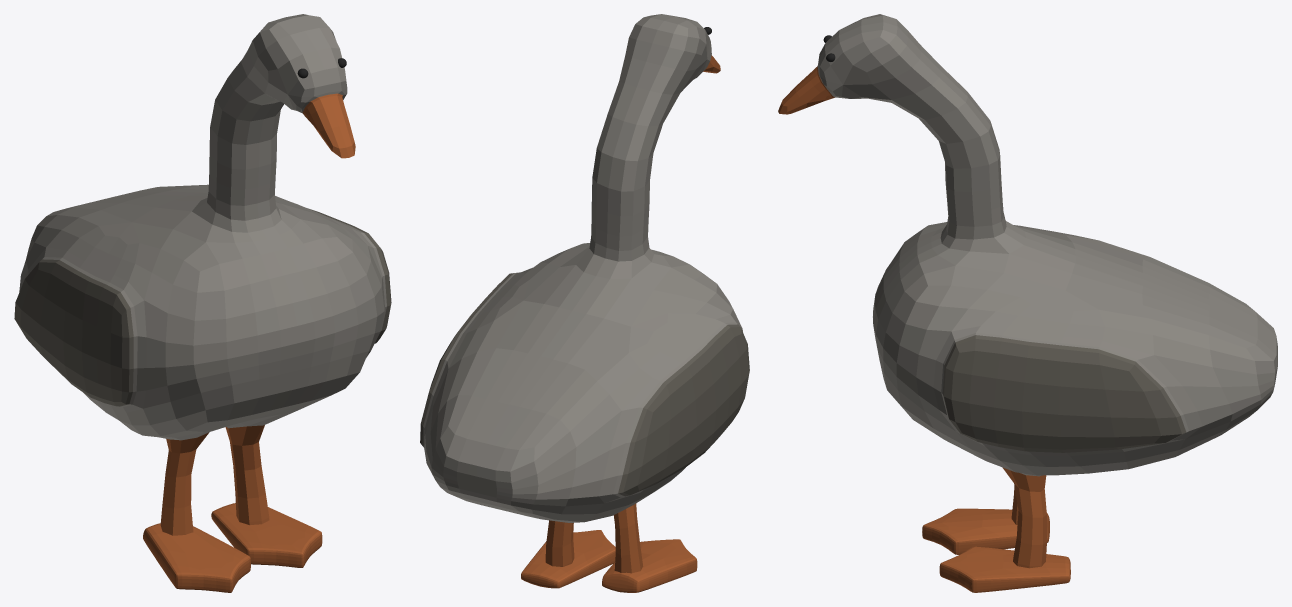
File: goose2.gltf
3 renders of one model, left to right at view 1: azimuth 30°, elevation 25°; view 2: azimuth 150°, elevation 25°; view 3: azimuth 270°, elevation 25°, orthographic. The views are drawn at different scales.
Parts seen in each view (by area): view 1: Cube; view 2: Cube; view 3: Cube.
Part boxes in pixels (x1,y1,x2,y2): Cube: [14, 14, 391, 592]; Cube: [420, 14, 749, 592]; Cube: [778, 14, 1277, 592].
Bounding box in the file's own units: 8.33 × 17 × 14.33.
